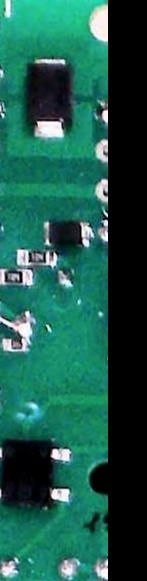chip-resistor: (17, 248, 55, 267), (0, 267, 33, 287), (1, 336, 28, 352)
diode: (25, 56, 75, 141), (41, 217, 92, 247)
ic: (0, 436, 74, 510)
